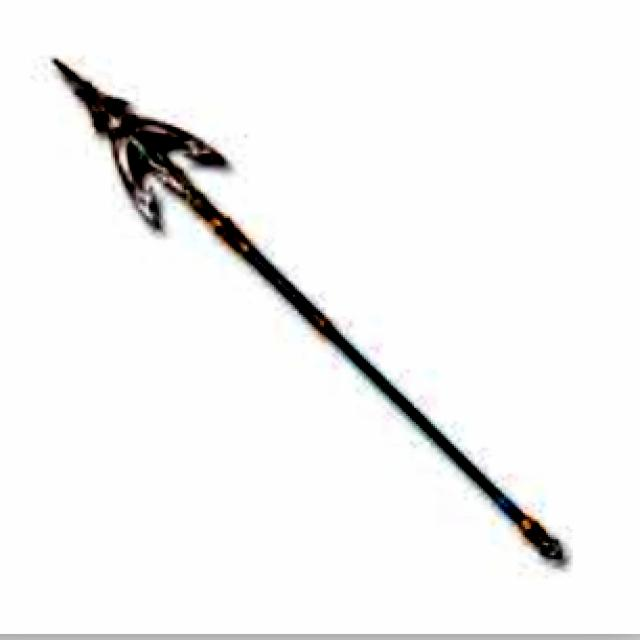spear: (37, 27, 579, 590)
